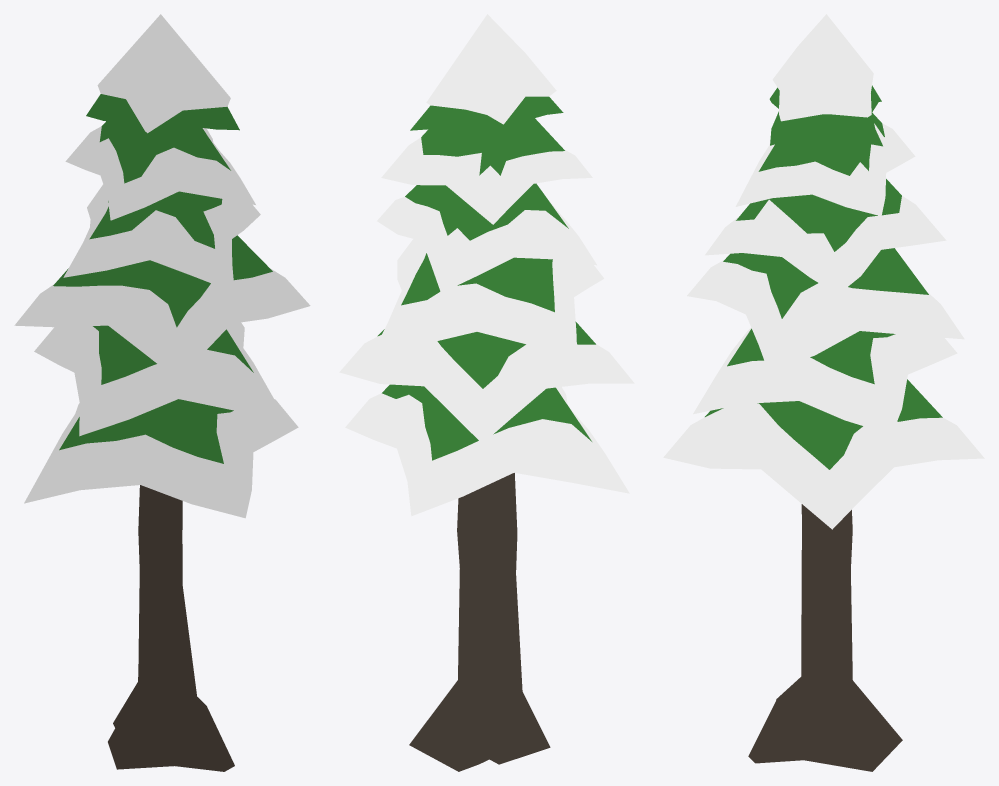
The model's file is pine_tall_snowy_01.dae.
3 views of the same model, side by side, from view 1: azimuth 30°, elevation 25°; view 2: azimuth 150°, elevation 25°; view 3: azimuth 270°, elevation 25° (orthographic).
Visible parts, largest first — view 1: pine_tall_snowy_01-0; view 2: pine_tall_snowy_01-0; view 3: pine_tall_snowy_01-0.
Part boxes in pixels (x1=…): pine_tall_snowy_01-0: x1=14, y1=14, x2=310, y2=771; pine_tall_snowy_01-0: x1=339, y1=14, x2=634, y2=771; pine_tall_snowy_01-0: x1=663, y1=14, x2=984, y2=771.
Size of the model in its own units: 5.69 by 14.21 by 5.67.
